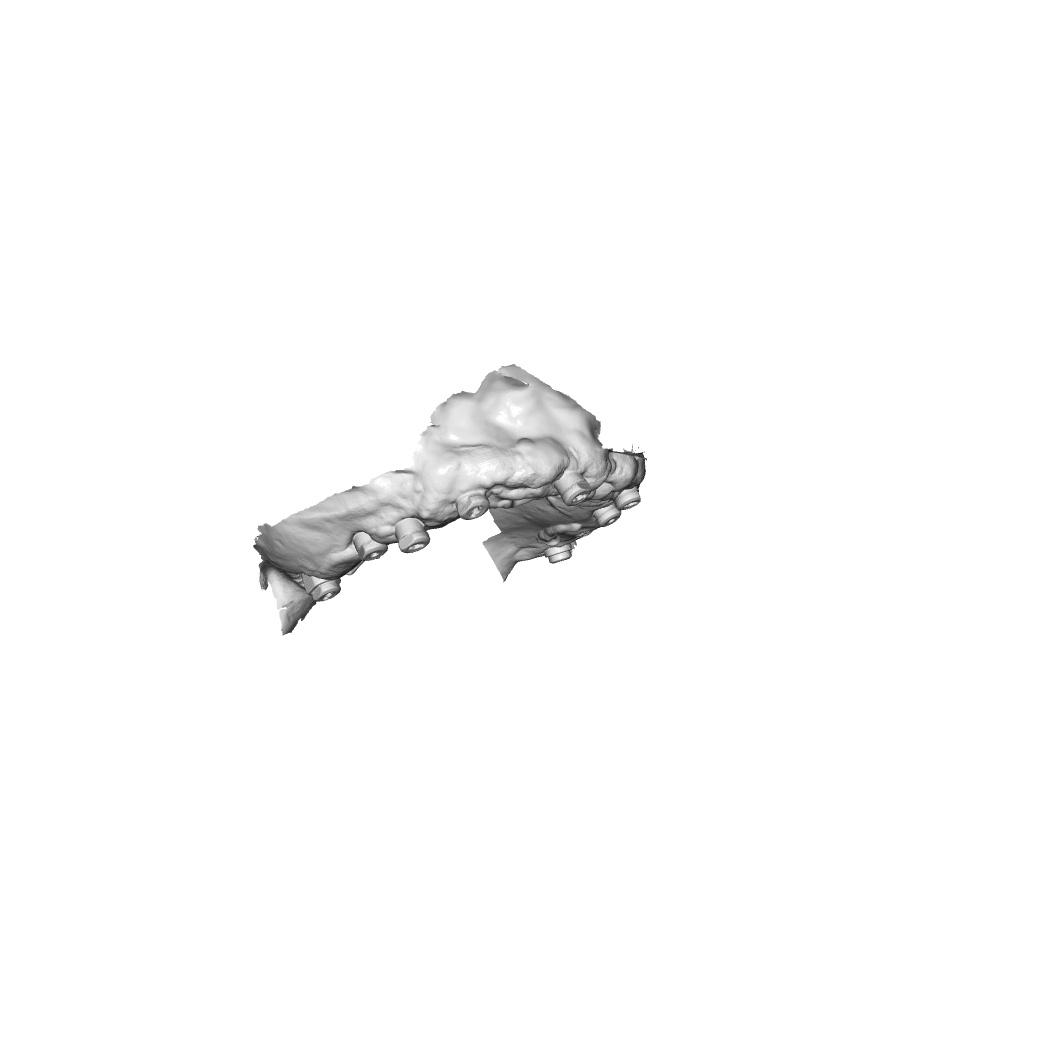implant: (299, 568, 342, 604), (351, 529, 390, 563), (612, 484, 643, 511), (593, 501, 622, 528), (543, 541, 573, 564)
implant_minus: (392, 516, 431, 555), (552, 471, 593, 508), (454, 488, 491, 522)
